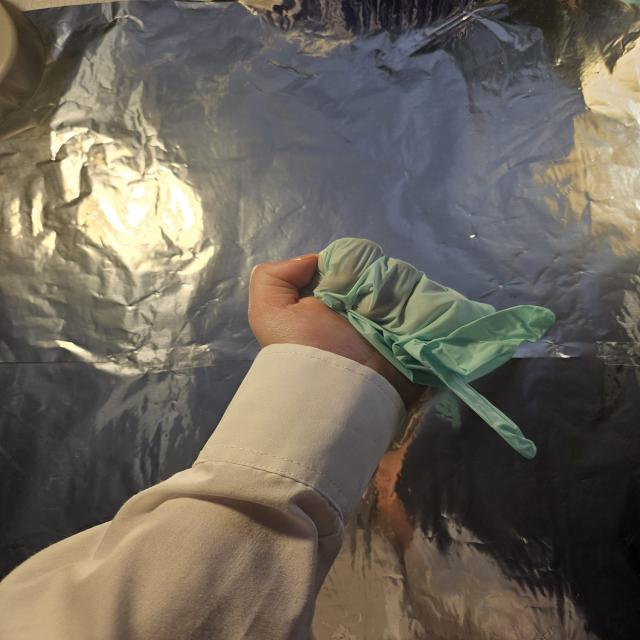glove_partial: (246, 235, 558, 460)
